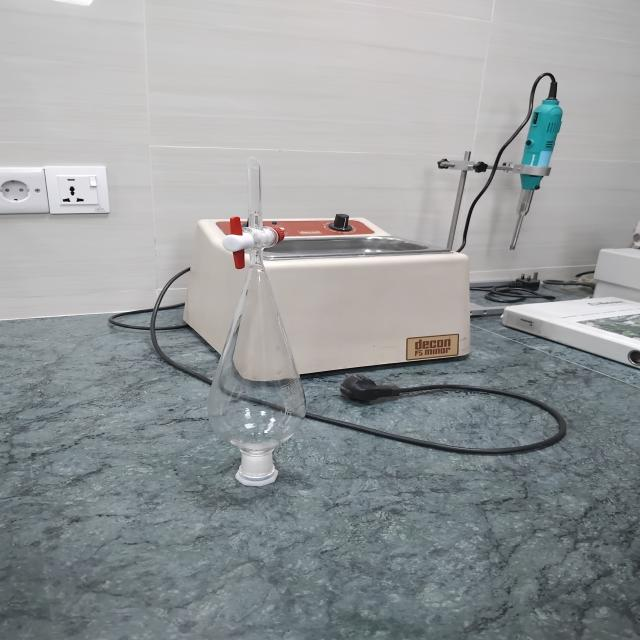Separating_Funnel: (169, 147, 359, 526)
